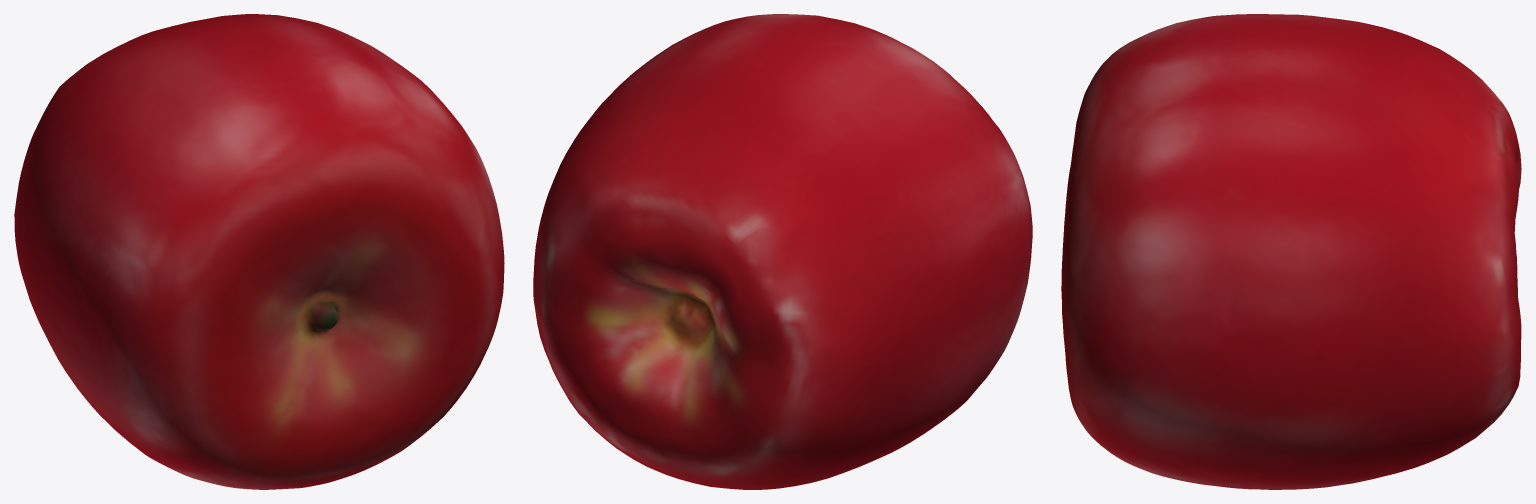
File: textured_simplified.obj
The picture shows the model from 3 angles, left to right: view 1: azimuth 30°, elevation 25°; view 2: azimuth 150°, elevation 25°; view 3: azimuth 270°, elevation 25°; orthographic projection. The views are drawn at different scales.
Bounding box in the file's own units: 0.0754 × 0.0749 × 0.0719.
1 material, 1 textured.
